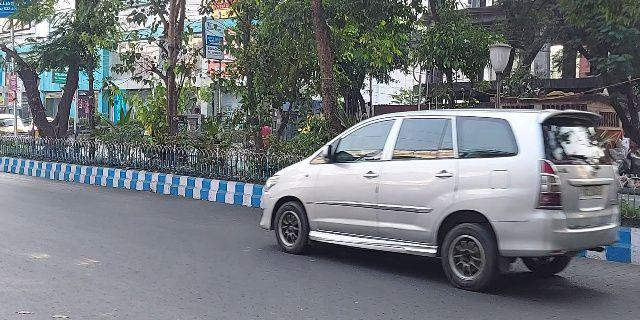Car: (255, 107, 617, 288)
